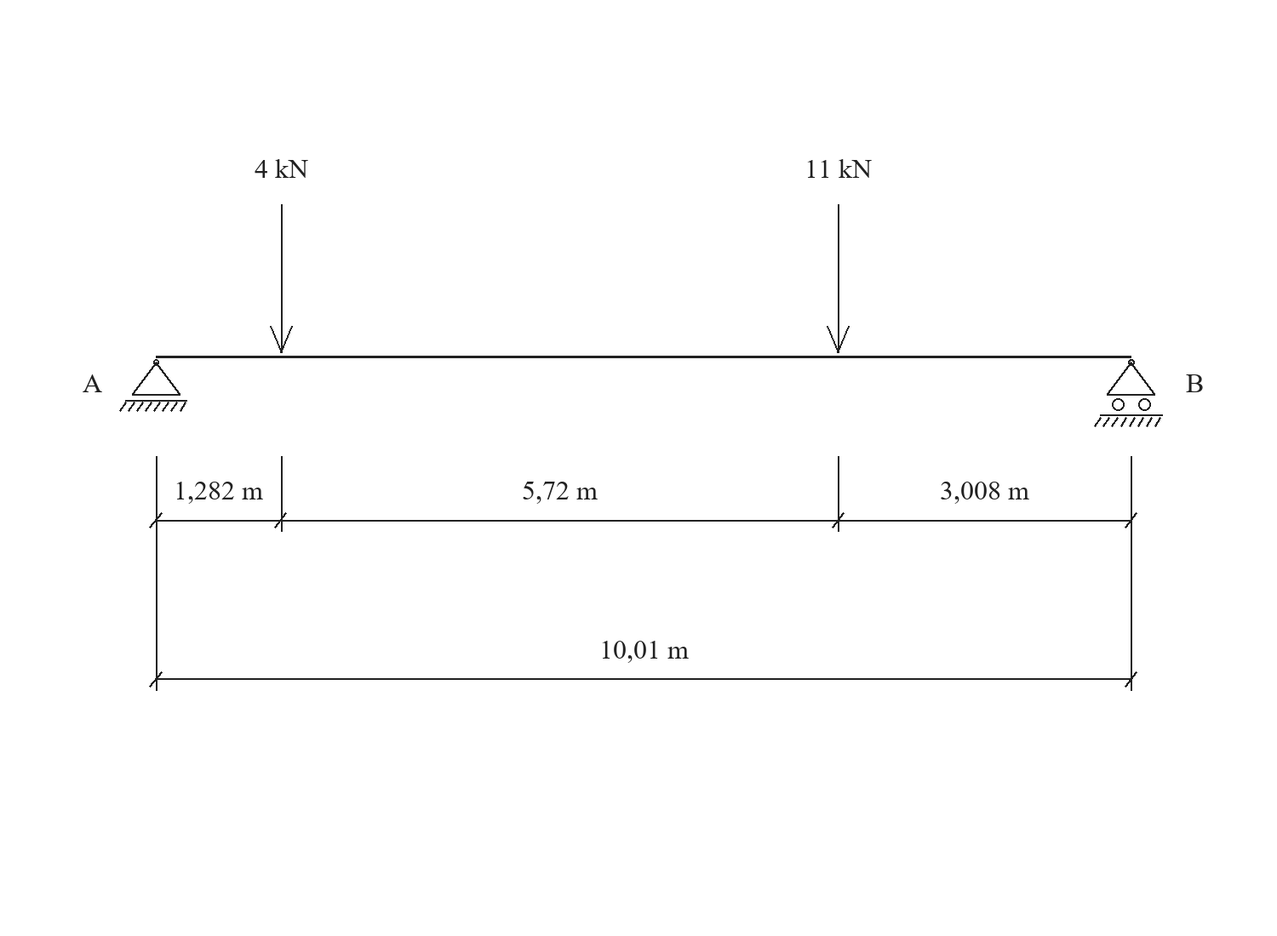pin_support: (119, 359, 187, 412)
point_load: (270, 204, 293, 353), (827, 204, 850, 353)
roller_support: (1094, 359, 1163, 427)
